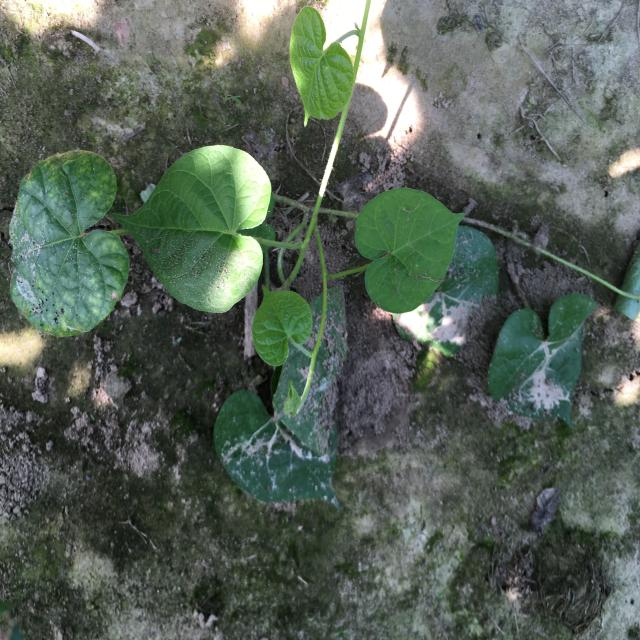MorningGlory: (10, 1, 640, 514)
